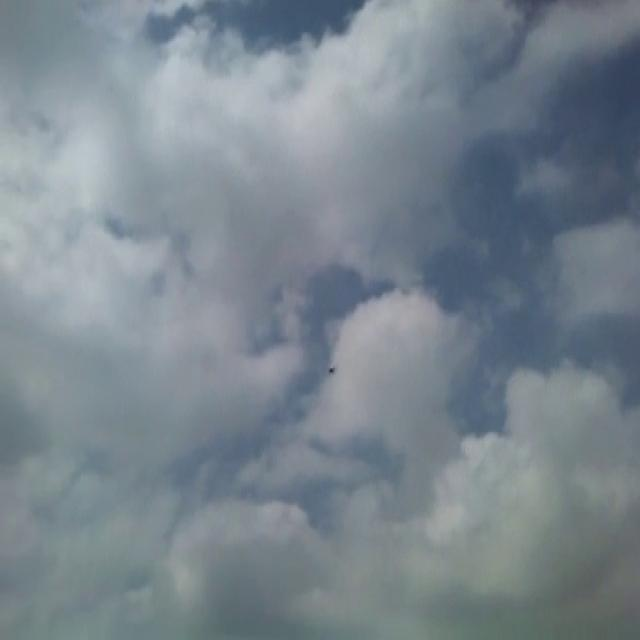drone: (325, 357, 337, 375)
